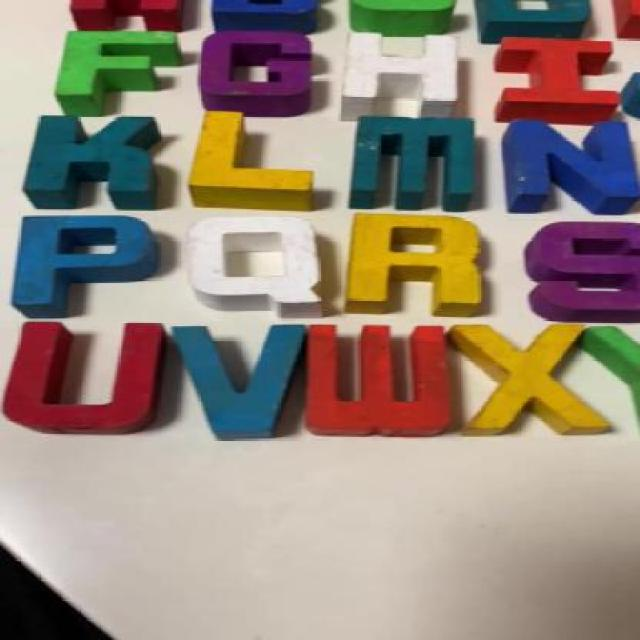F: (59, 32, 182, 110)
G: (202, 28, 313, 106)
H: (335, 34, 456, 109)
I: (493, 38, 616, 116)
K: (31, 116, 164, 204)
L: (189, 110, 328, 210)
M: (352, 117, 476, 205)
N: (504, 120, 636, 208)
P: (18, 212, 165, 311)
Q: (191, 216, 326, 316)
R: (350, 213, 485, 305)
U: (5, 319, 163, 435)
V: (179, 321, 303, 439)
W: (307, 324, 464, 438)
X: (452, 325, 608, 437)
